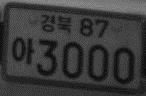0: (111, 45, 135, 84), (61, 40, 84, 79), (86, 43, 109, 81)
3: (36, 37, 58, 77)
7: (94, 17, 109, 38)
8: (79, 17, 94, 37)
경북_H: (39, 12, 72, 34)
아: (10, 35, 35, 65)
